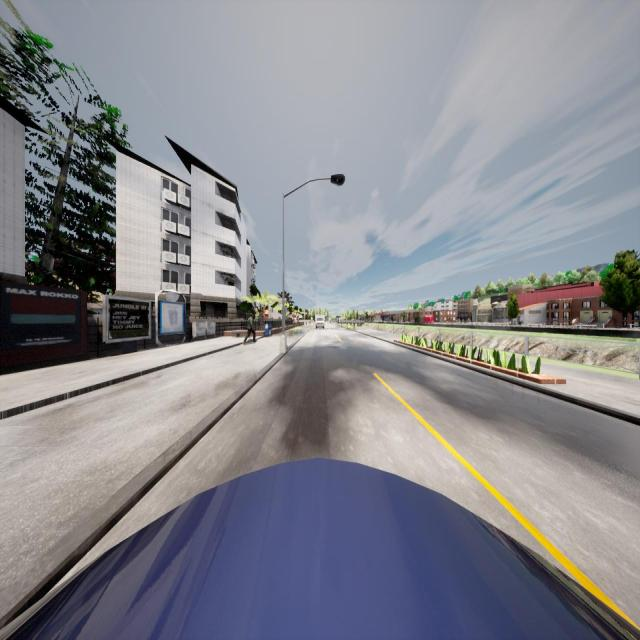Pedestrian: (243, 312, 257, 346)
Vehicle: (0, 459, 640, 640), (314, 315, 326, 329)
